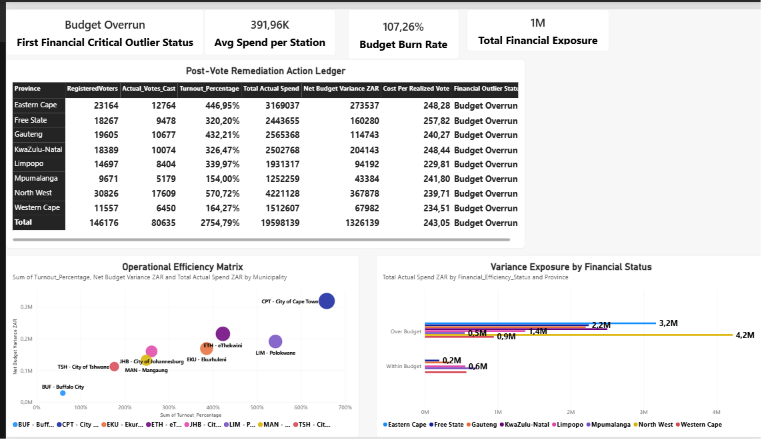

This screenshot's page, from the dashboard's own definition file:
{"tool":"powerbi","page":{"name":"Operational Efficiency & Risk Matrix","canvas":[1920,1080],"ordinal":2},"visuals":[{"type":"scatterChart","title":"Operational Efficiency Matrix","fields":{"X":["Sum(df_ops.Turnout_Percentage)"],"Y":["df_ops.Net Budget Variance ZAR"],"Size":["df_ops.Total Actual Spend ZAR"],"Series":["df_ops.Municipality"]},"box":[0,621.5,891.8,459.8],"z":0},{"type":"card","fields":{"Values":["df_ops.Avg Spend per Station"]},"box":[500.2,0,333.5,116.2],"z":2000},{"type":"card","fields":{"Values":["df_ops.Budget Burn Rate"]},"box":[864,0,280.4,126.3],"z":3000},{"type":"card","fields":{"Values":["df_ops.Total Financial Exposure"]},"box":[1164.6,0,358.7,106.1],"z":4000},{"type":"clusteredBarChart","title":"Variance Exposure by Financial Status","fields":{"Category":["df_ops.Financial_Efficiency_Status"],"Y":["df_ops.Total Actual Spend ZAR"],"Series":["df_ops.Province"]},"box":[934.7,621.5,985.3,459.8],"z":5000},{"type":"pivotTable","title":"Post-Vote Remediation Action Ledger","fields":{"Rows":["df_ops.Province"],"Values":["Sum(df_ops.RegisteredVoters)","Sum(df_ops.Actual_Votes_Cast)","Sum(df_ops.Turnout_Percentage)","df_ops.Total Actual Spend ZAR","df_ops.Net Budget Variance ZAR","df_ops.Cost Per Realized Vote","df_ops.Financial Outlier Status"]},"box":[0,126.3,1311.2,477.5],"z":6000},{"type":"card","fields":{"Values":["Min(df_ops.Financial Critical Outlier Status)"]},"box":[0,0,500.2,116.2],"z":6002}]}

Visuals, with their boxes in screenshot pixels (x1, y1, x2, y2), scaled from the page's 1920x1080 canvas onto the 761x439 screenshot:
"Operational Efficiency Matrix" scatterChart: x1=0, y1=253, x2=353, y2=438
card - df_ops.Avg Spend per Station: x1=198, y1=0, x2=330, y2=47
card - df_ops.Budget Burn Rate: x1=342, y1=0, x2=454, y2=51
card - df_ops.Total Financial Exposure: x1=462, y1=0, x2=604, y2=43
"Variance Exposure by Financial Status" clusteredBarChart: x1=370, y1=253, x2=760, y2=438
"Post-Vote Remediation Action Ledger" pivotTable: x1=0, y1=51, x2=520, y2=245
card - Min(df_ops.Financial Critical Outlier Status): x1=0, y1=0, x2=198, y2=47
